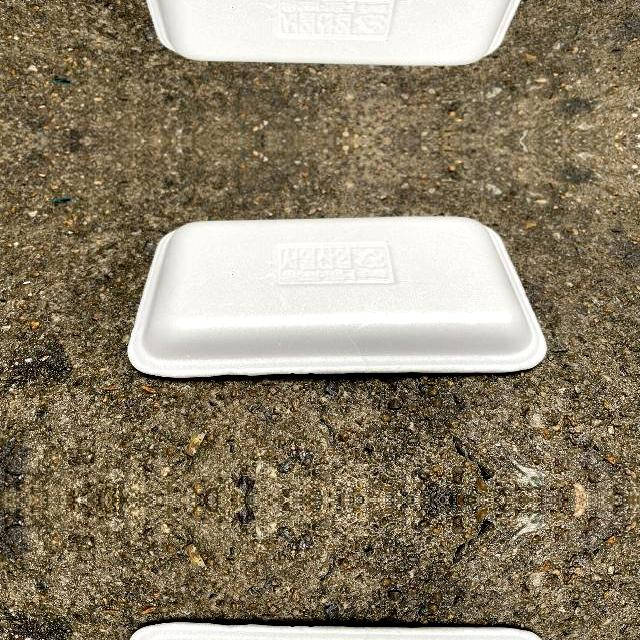Styrofoam: (127, 214, 546, 378), (127, 215, 547, 377), (126, 0, 545, 66), (146, 0, 521, 65)
